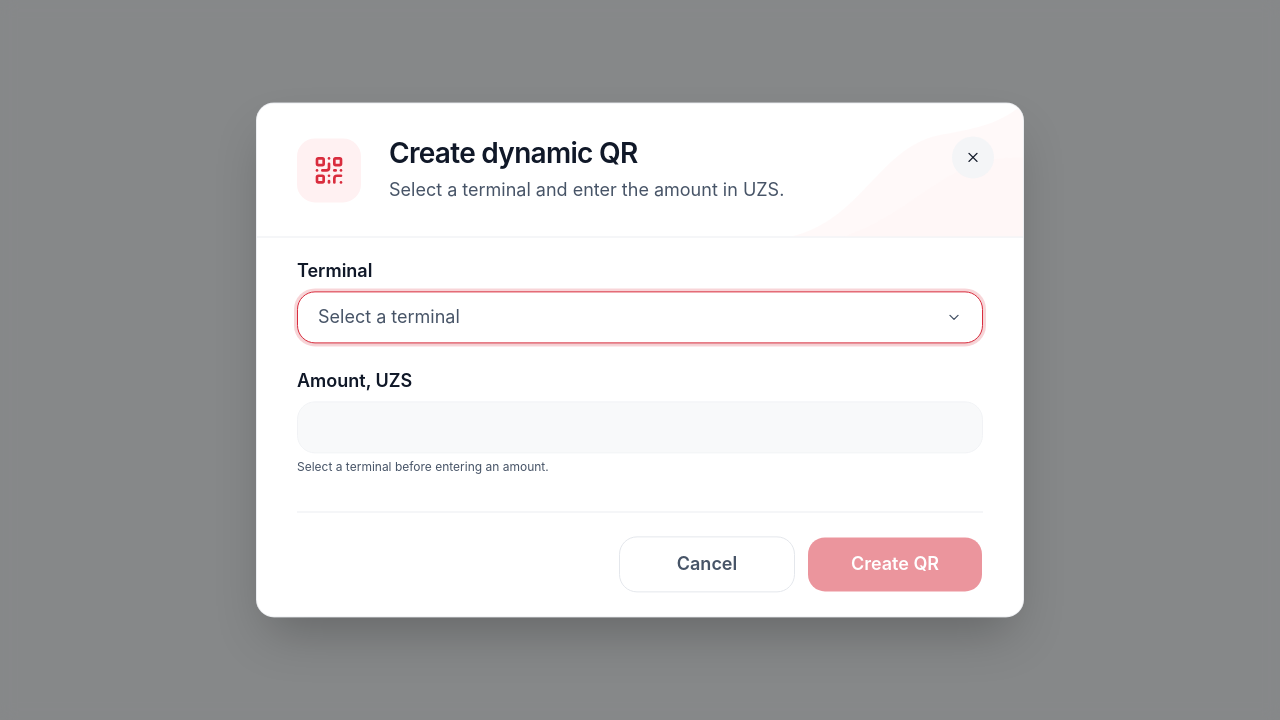
Test: hands focus from the portaled terminal popup into the actual dialog and supports mouse selection
Press Enter in the dropdown with id "create-qr-terminal", box [297, 292, 983, 344]
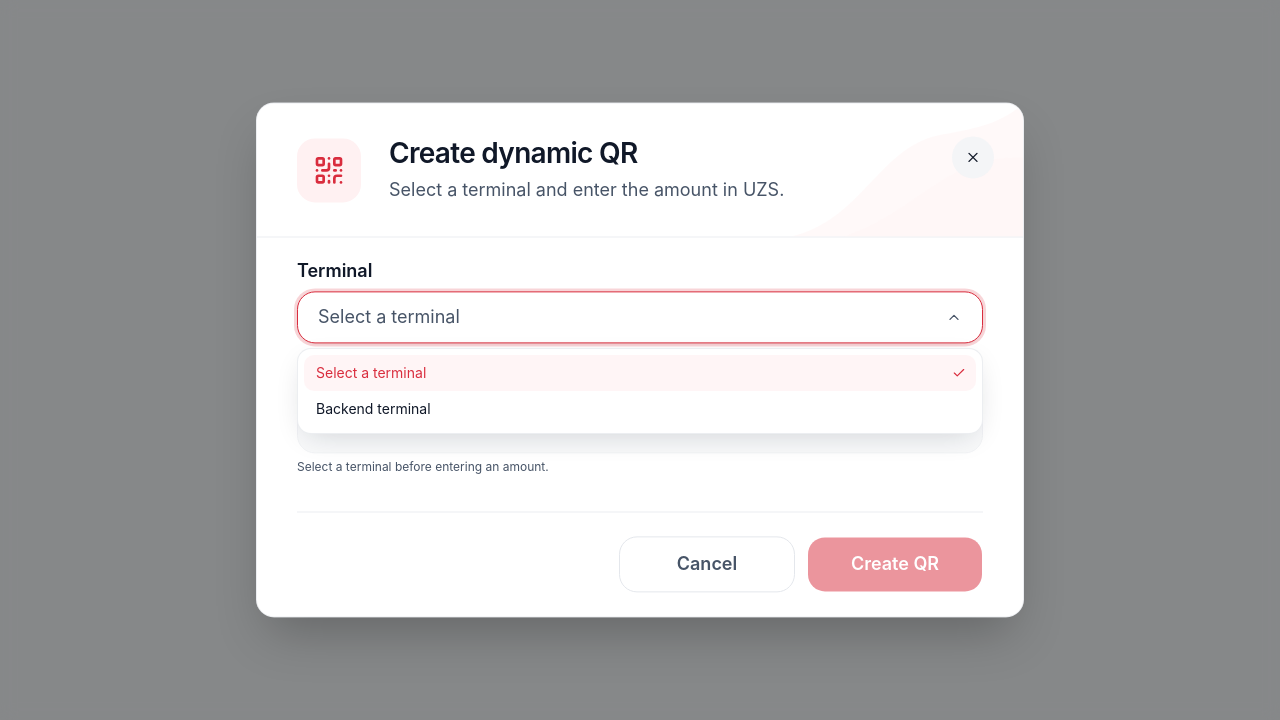
Press the mouse on the option "Backend terminal": (373, 408) [316, 400, 431, 417]
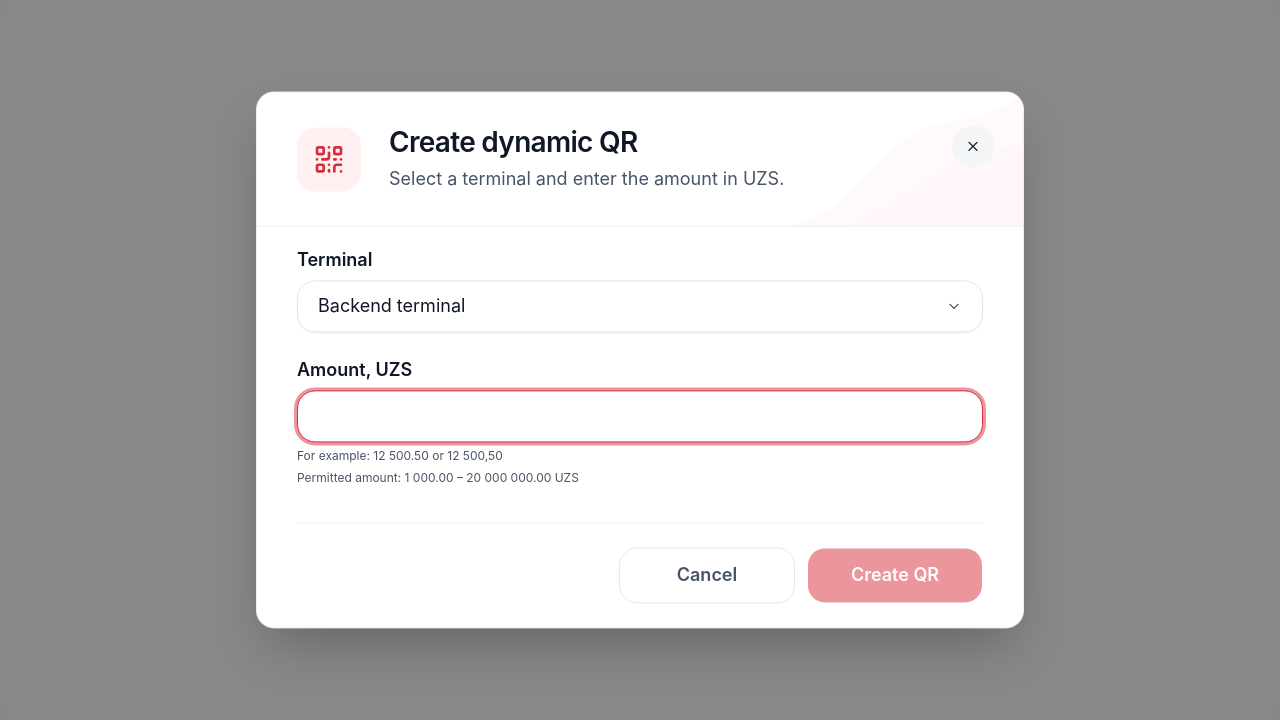
Expected: the list is gone
